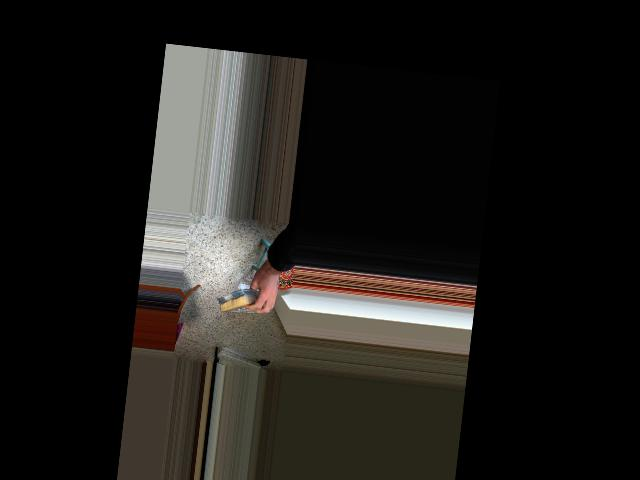cheese: (213, 283, 277, 317)
